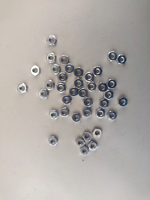nut: (117, 55, 128, 65), (108, 51, 118, 62), (107, 79, 117, 90), (93, 66, 103, 77), (31, 65, 41, 76), (18, 83, 28, 94), (39, 89, 49, 100), (45, 80, 55, 91), (57, 83, 67, 94), (74, 67, 84, 78), (84, 72, 95, 82), (87, 81, 97, 92), (104, 90, 114, 101), (107, 111, 118, 121), (93, 128, 103, 139), (47, 36, 57, 46), (119, 97, 129, 107), (47, 53, 57, 63), (59, 55, 69, 65), (58, 73, 68, 83), (51, 65, 61, 75), (98, 83, 108, 93), (76, 138, 86, 148), (80, 147, 90, 157), (89, 142, 99, 152), (83, 133, 93, 143), (50, 110, 60, 120), (72, 113, 82, 123), (60, 108, 70, 118), (62, 95, 72, 105), (83, 108, 93, 118), (99, 99, 109, 109), (84, 98, 94, 108), (78, 89, 88, 99), (74, 78, 84, 88), (70, 87, 80, 97), (49, 137, 58, 147), (97, 109, 106, 119), (66, 65, 73, 74)
